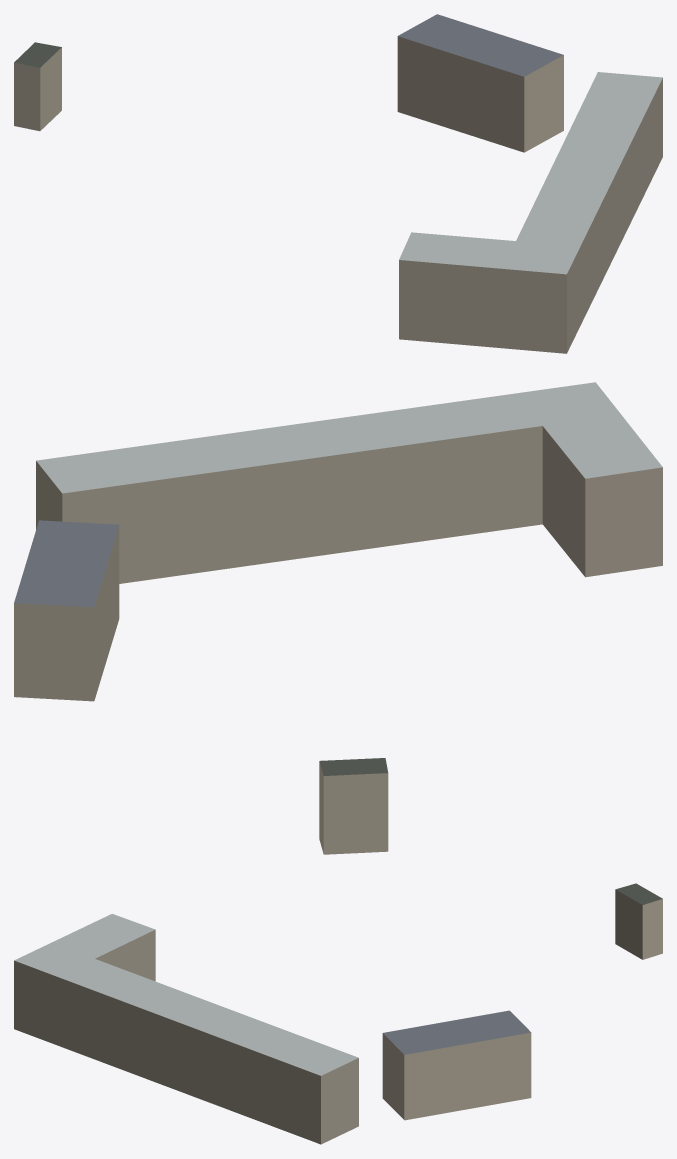
3 renders of one model, top to bottom at view 1: azimuth 30°, elevation 25°; view 2: azimuth 150°, elevation 25°; view 3: azimuth 270°, elevation 25°, orthographic. The views are drawn at different scales.
Visible parts, largest first — view 1: tuile; view 2: tuile; view 3: tuile.
Part boxes in pixels (x1,y1,x2,y2): tuile: (14, 14, 662, 353); tuile: (14, 382, 662, 854); tuile: (14, 883, 662, 1144).
Bounding box in the file's own units: 92.01 × 14.97 × 128.
